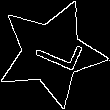L_NW: (21, 29, 81, 78)
